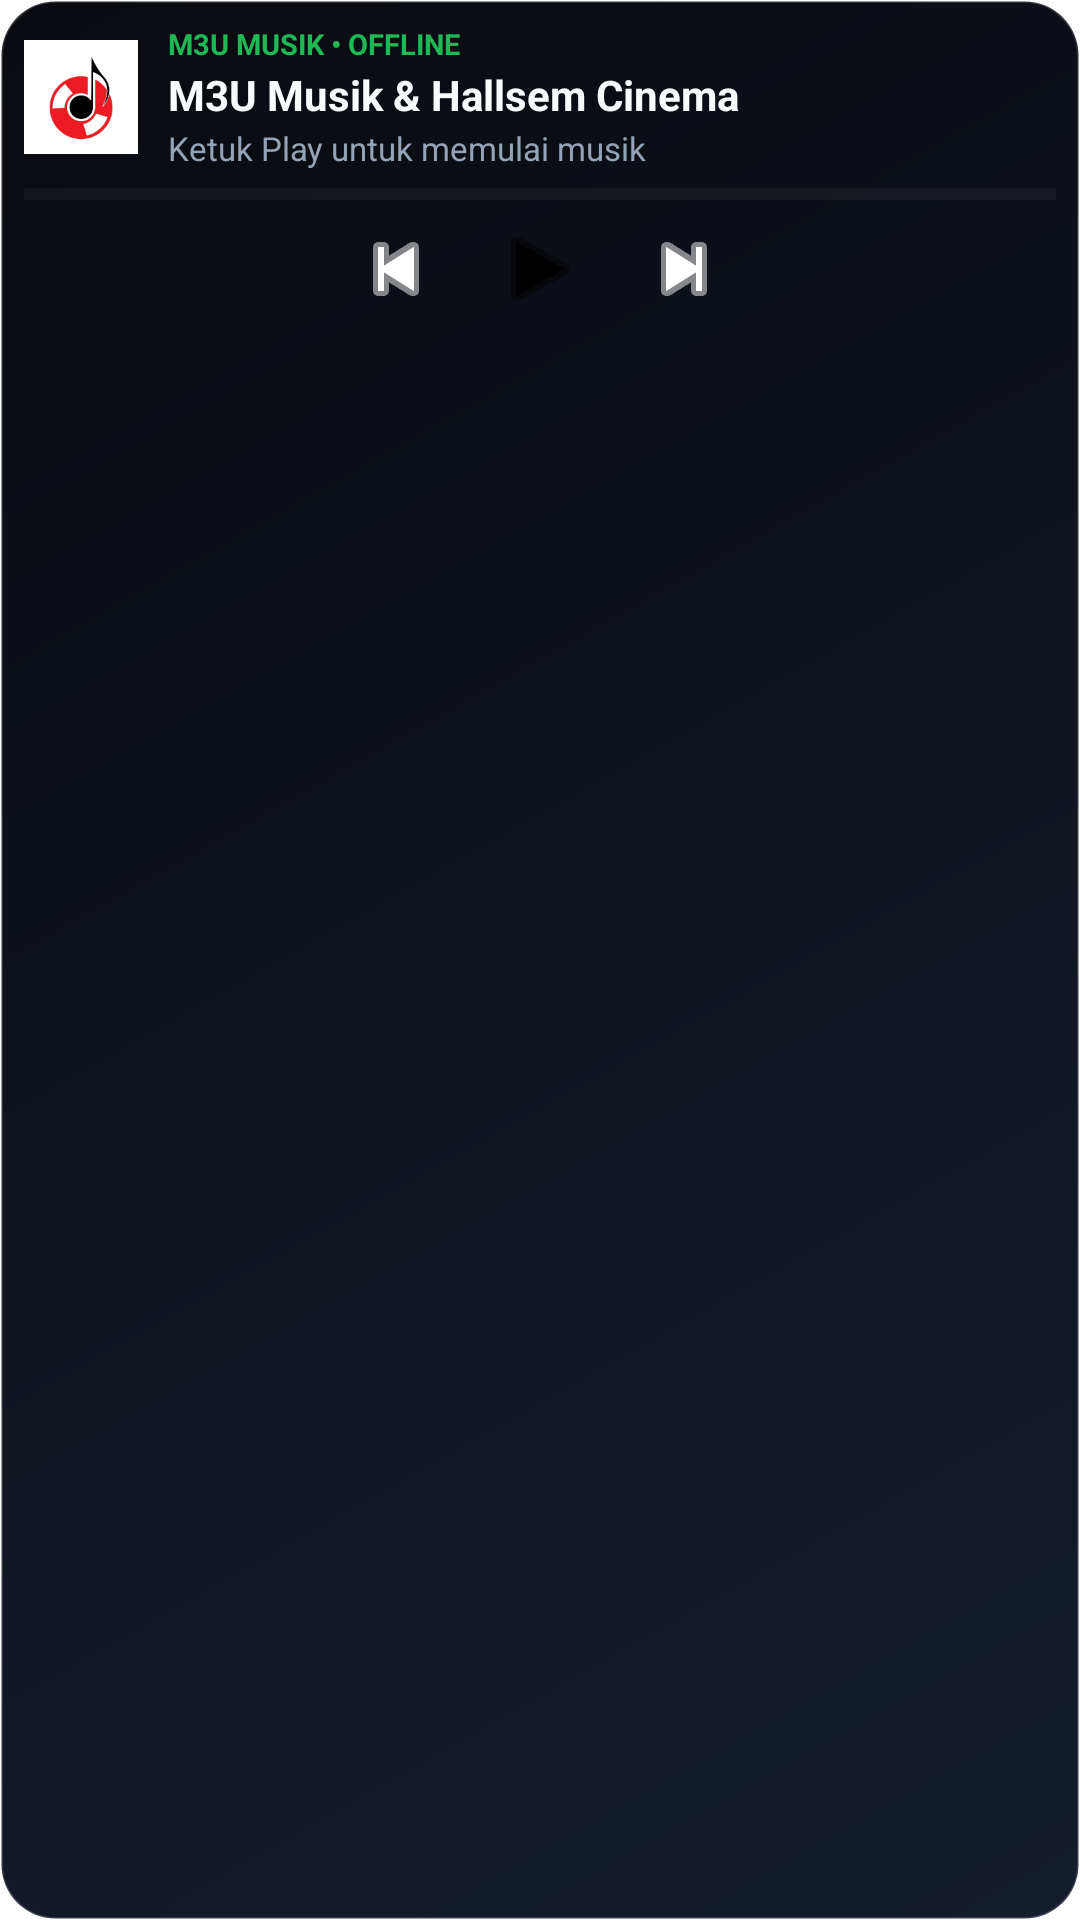

Icons on this 1080*1920 Android screen, each with its box as bbox=(x1, y1, x2, y2):
Next: bbox=(661, 242, 707, 296)
Previous: bbox=(373, 242, 419, 296)
